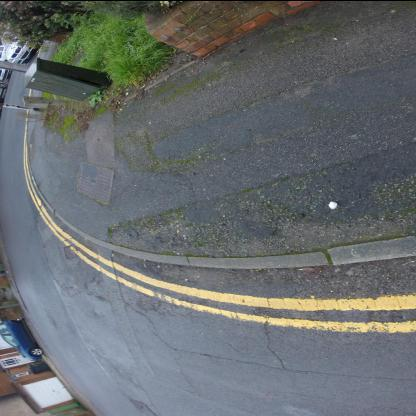metal: (329, 201, 339, 209)
